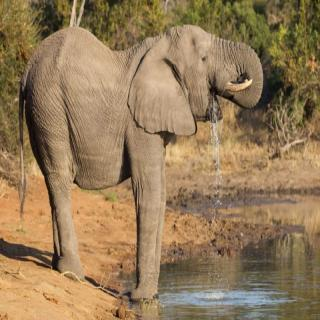Elephant: (16, 22, 268, 305)
